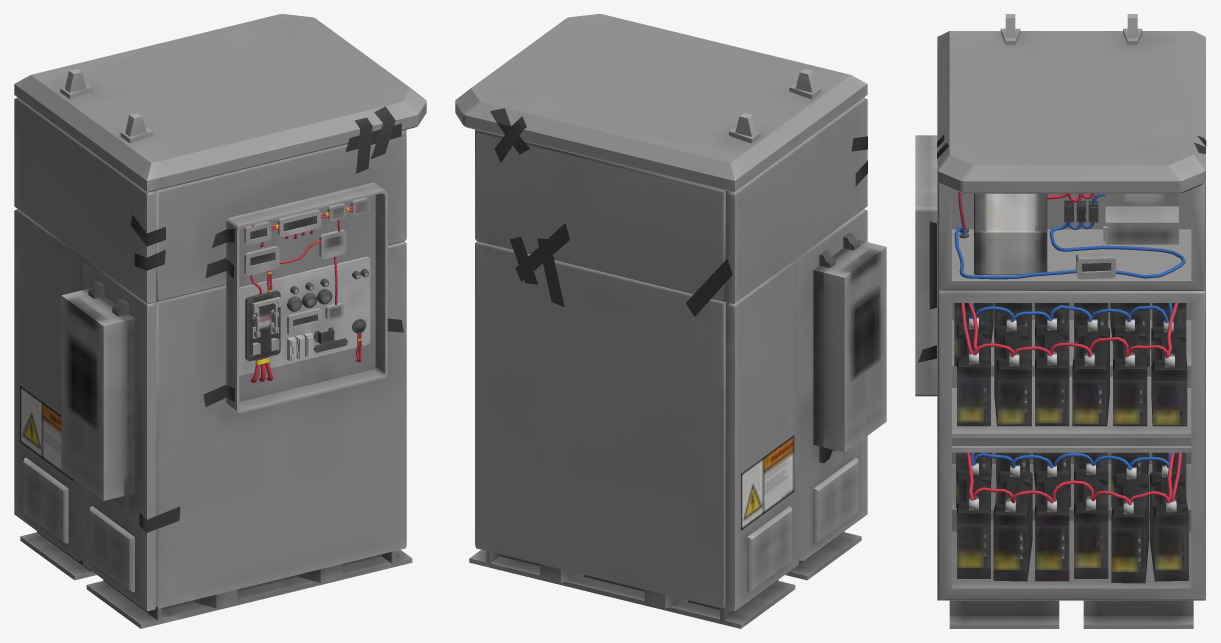
The model's file is SM_EnergyStorage_a0801d.glb.
3 renders of one model, left to right at view 1: azimuth 30°, elevation 25°; view 2: azimuth 150°, elevation 25°; view 3: azimuth 270°, elevation 25°, orthographic.
Bounding box in the file's own units: 1.55 × 2.22 × 1.19.
1 material, 1 textured.
